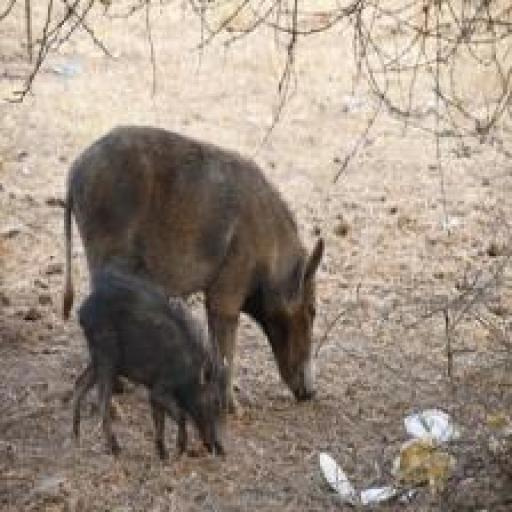Pig: (55, 117, 347, 473)
